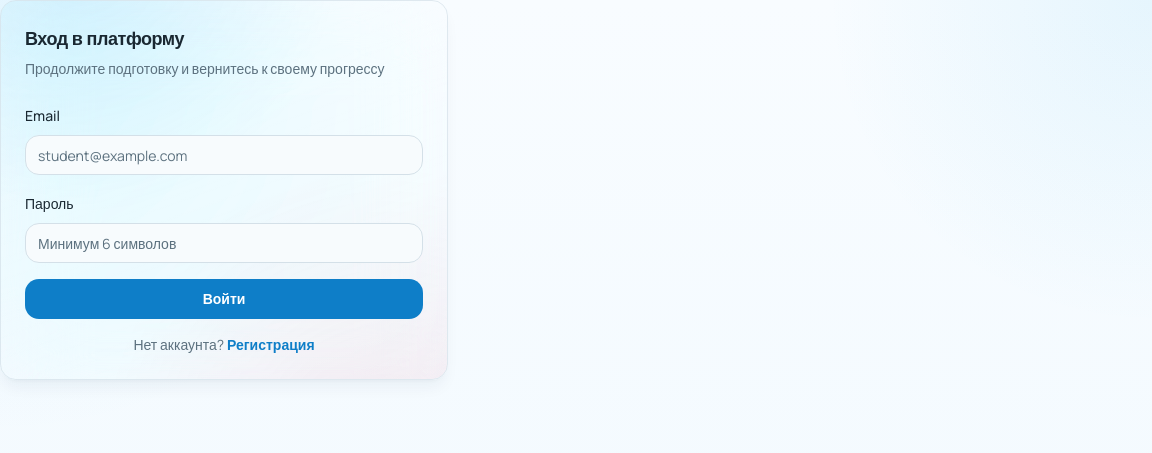
Test: AuthForm › shows a client-side validation error for invalid login email
Type "broken-email" into the field labelled "Email".
click(224, 155); type("broken-email")  # box [25,135,423,175]
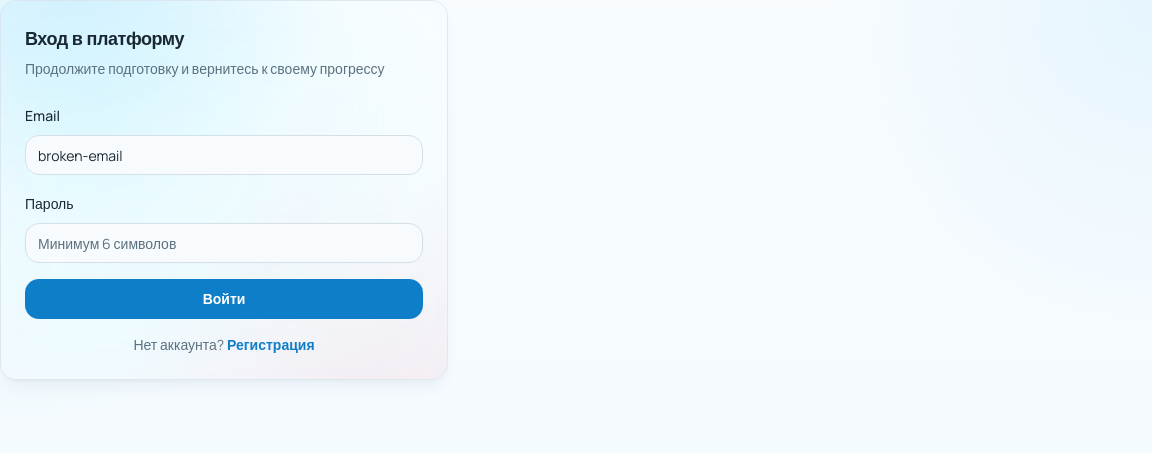
Type "123456" into the password field labelled "Пароль".
click(224, 243); type("123456")  # box [25,223,423,263]
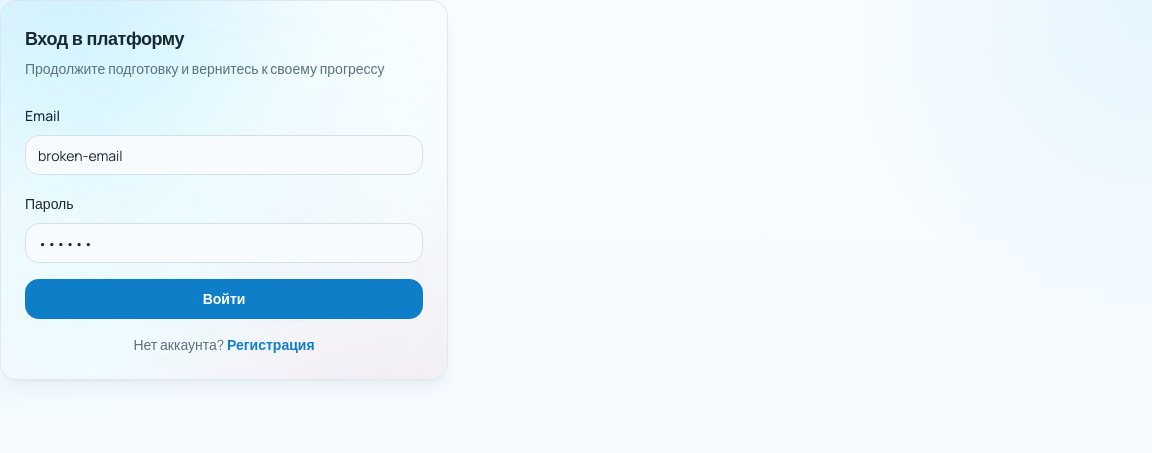
Click the button "Войти".
click(224, 299)  # box [25,279,423,319]
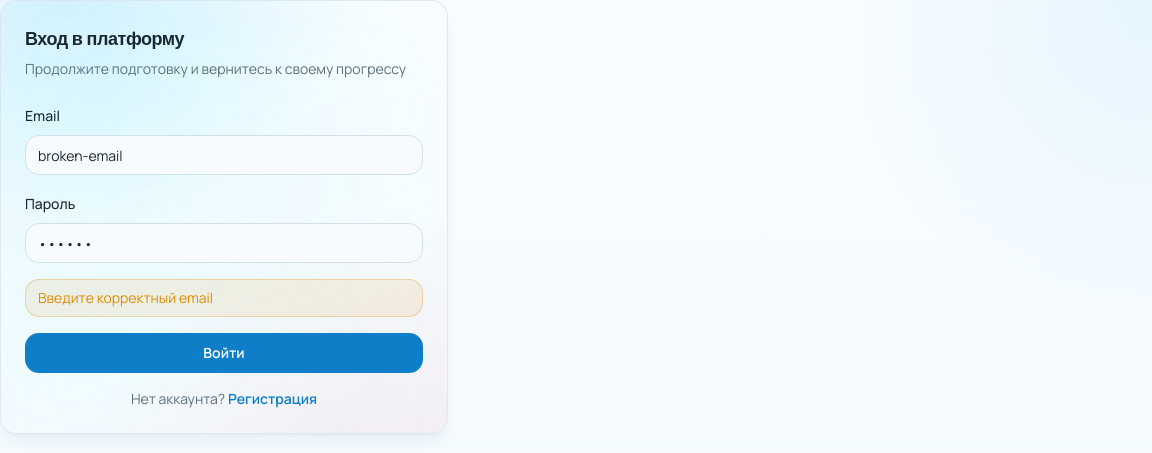
Now the text "Введите корректный email" is shown, box [25,279,423,317]
